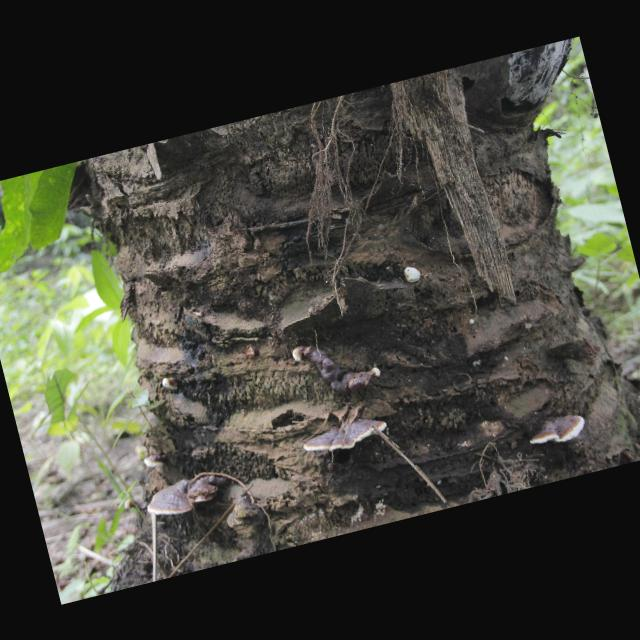ganoderma: (304, 333, 376, 405), (300, 412, 392, 461), (526, 411, 590, 451), (143, 478, 199, 522), (187, 472, 233, 506), (144, 452, 171, 471)
primordium: (403, 265, 424, 286), (161, 376, 181, 393), (291, 346, 306, 363), (122, 498, 138, 513), (371, 367, 383, 380), (470, 319, 477, 327)
